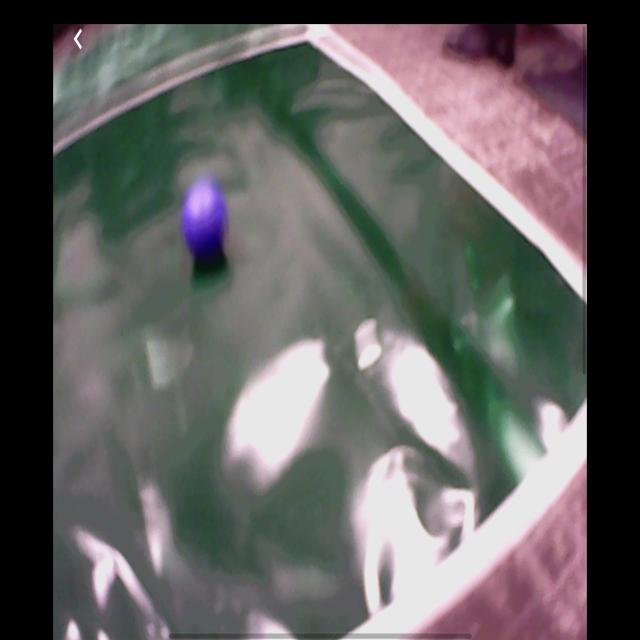ball: (182, 178, 228, 255)
